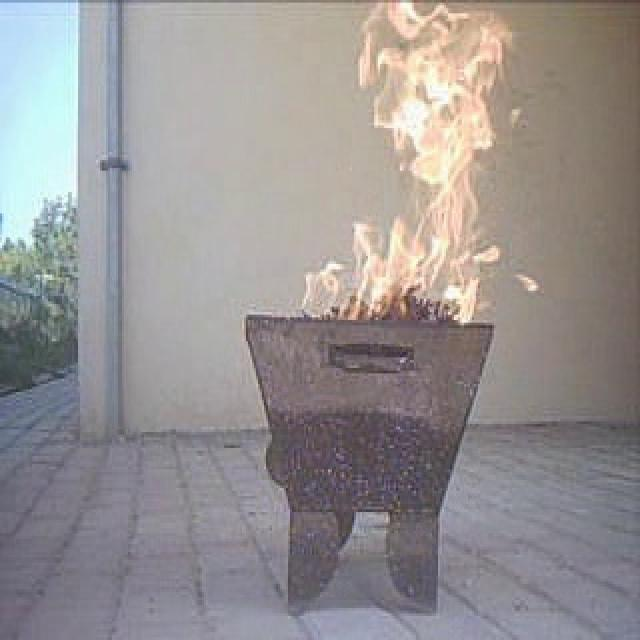fire: (353, 8, 516, 322)
